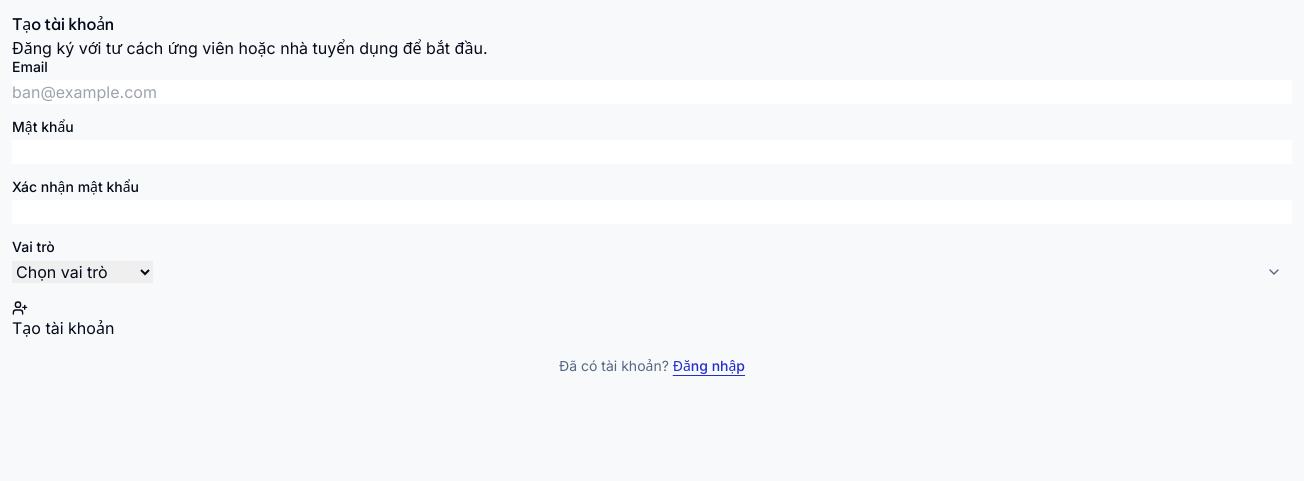
it: RegisterPage › shows errors for empty fields
Click the button "Tạo tài khoản" at (63, 320), box [12, 300, 114, 340]
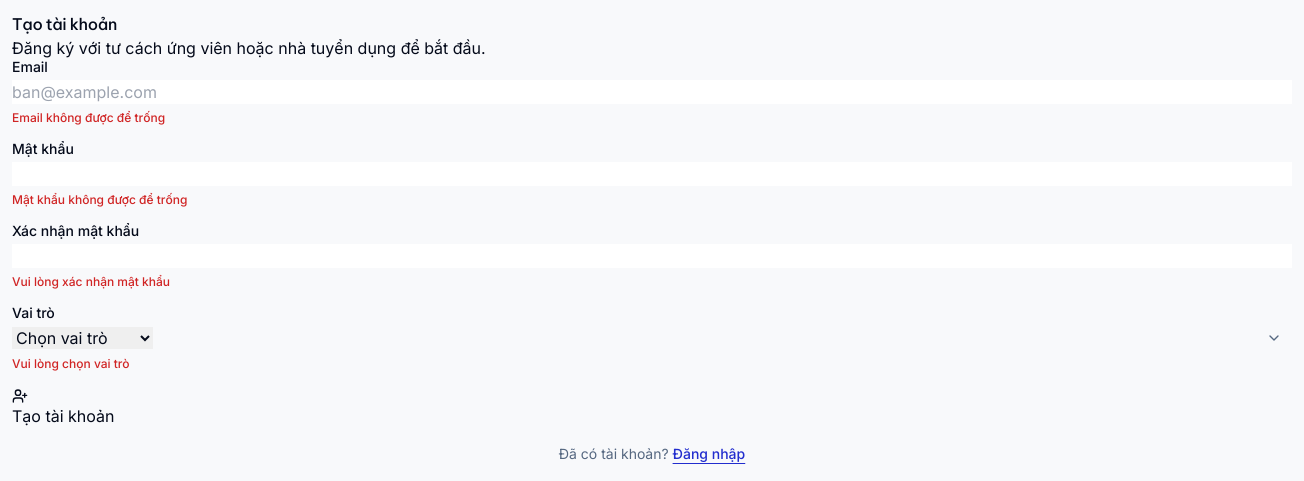
Expected: the text "Email không được để trống" is shown, [12, 110, 165, 125]
Expected: the text "Mật khẩu không được để trống" is shown, [12, 192, 187, 207]
Expected: the text "Vui lòng xác nhận mật khẩu" is shown, [12, 274, 170, 289]
